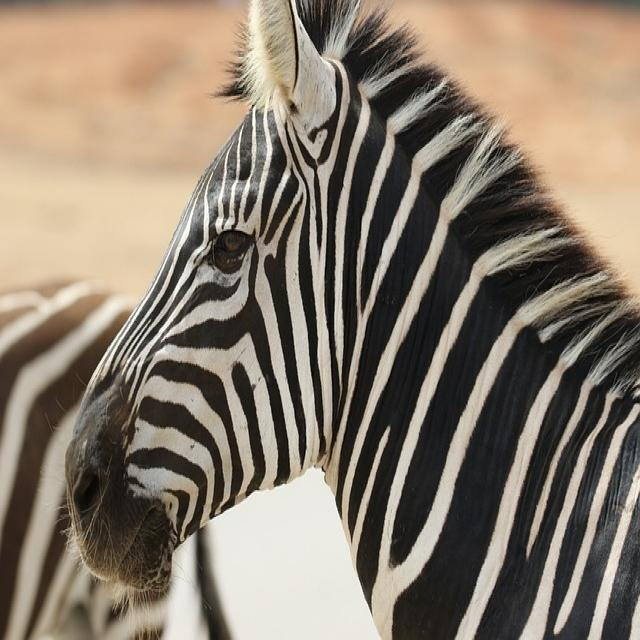Herbivorous: (62, 0, 640, 640)
